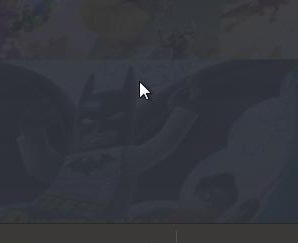cursor: (138, 80, 151, 100)
